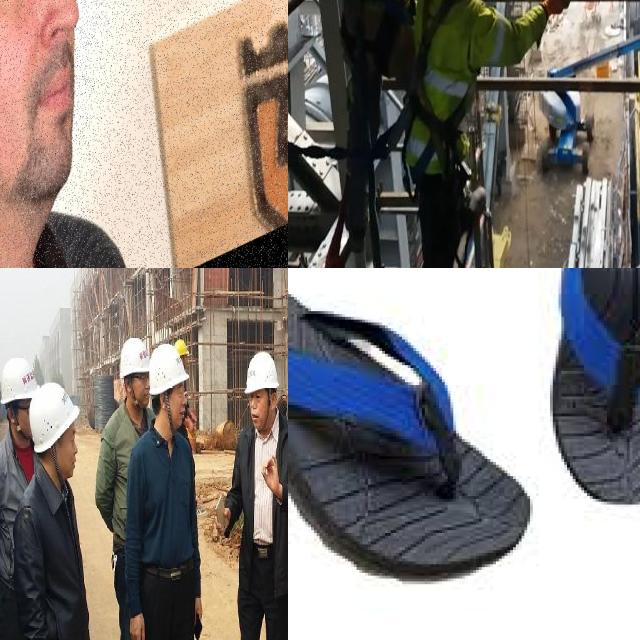Harness: (412, 0, 469, 134)
No_Ear-Protection: (269, 392, 277, 410)
No_Glasses: (66, 427, 76, 448), (174, 385, 186, 401), (249, 392, 263, 402)
Sandals: (288, 268, 640, 632)
face_mask: (249, 400, 266, 428)
face_nomask: (60, 448, 77, 476), (171, 398, 186, 427)
hand_noglove: (261, 456, 282, 500), (131, 615, 144, 640), (195, 596, 201, 617)
head_helmet: (30, 383, 80, 454), (149, 345, 189, 397), (1, 356, 38, 404), (245, 351, 279, 393), (120, 338, 150, 377)
